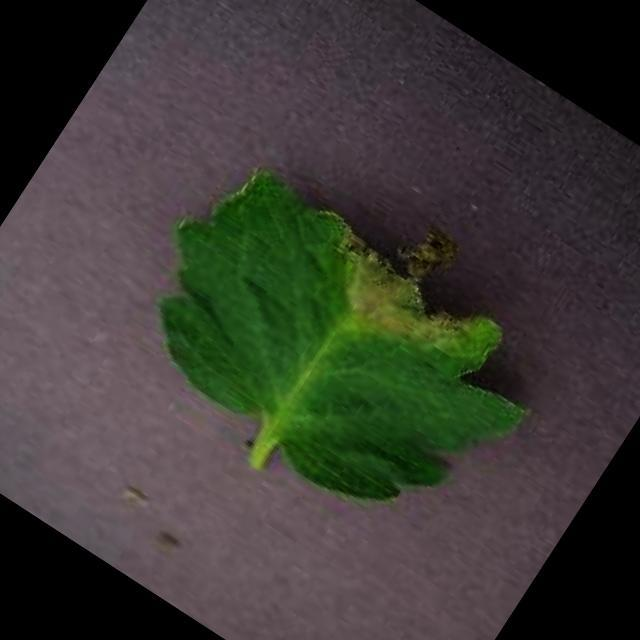Tomato late blight leaf: (93, 102, 590, 564)
